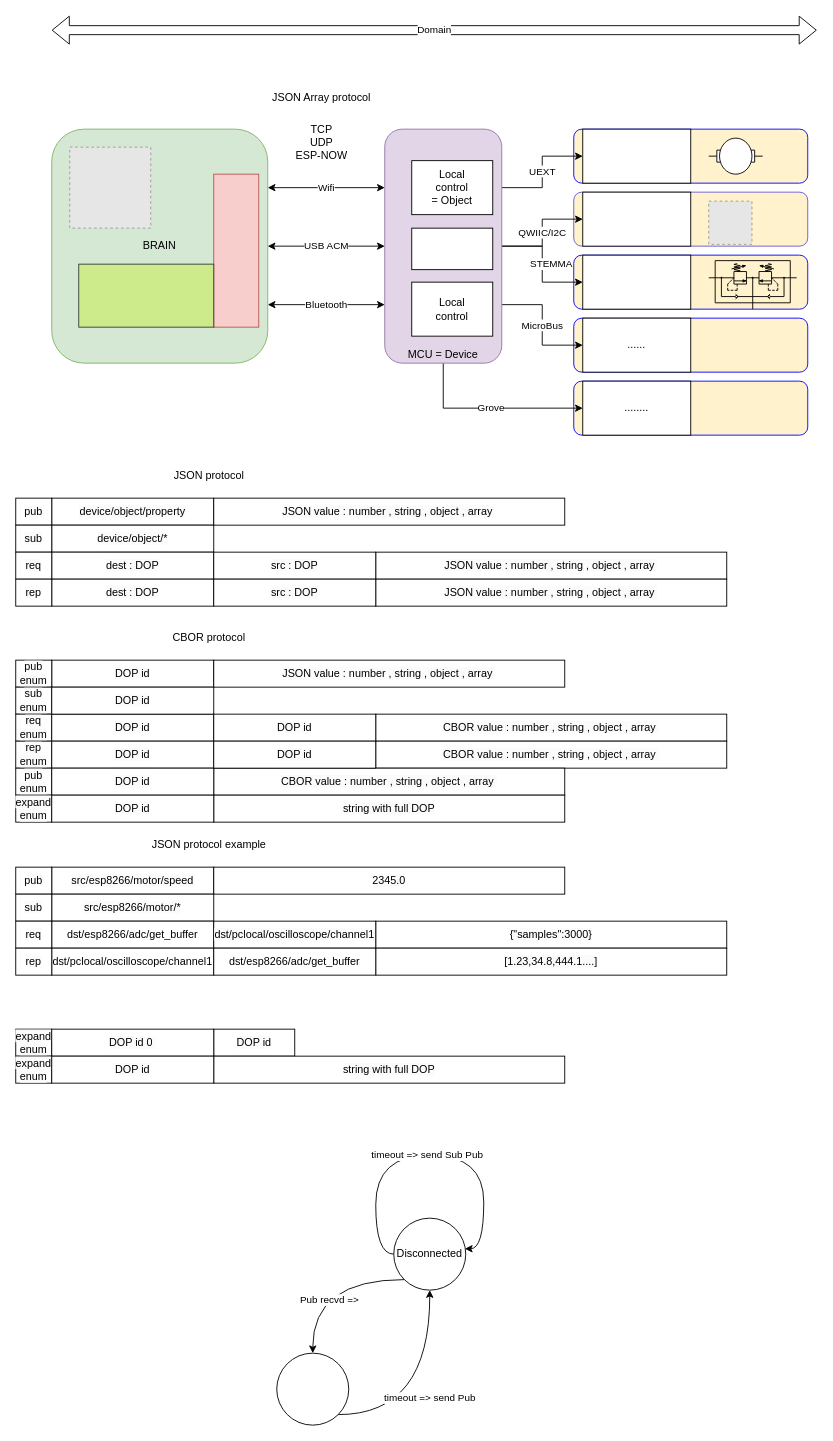
This 833x1441 diagram has some shape labels left out. Grey dashed boxes stand in for pictures. The centre of each missing label's shape, as x and y in pixels:
"Compass" goes at (x=636, y=218).
"Connected" goes at (x=312, y=1388).
"Driver Motor" goes at (x=636, y=155).
"Local Proxy" goes at (x=452, y=248).
"Power control" goes at (x=636, y=281).
"REDIS MQTT" goes at (x=236, y=250).
"RUST/Java/Scala" goes at (x=146, y=295).
